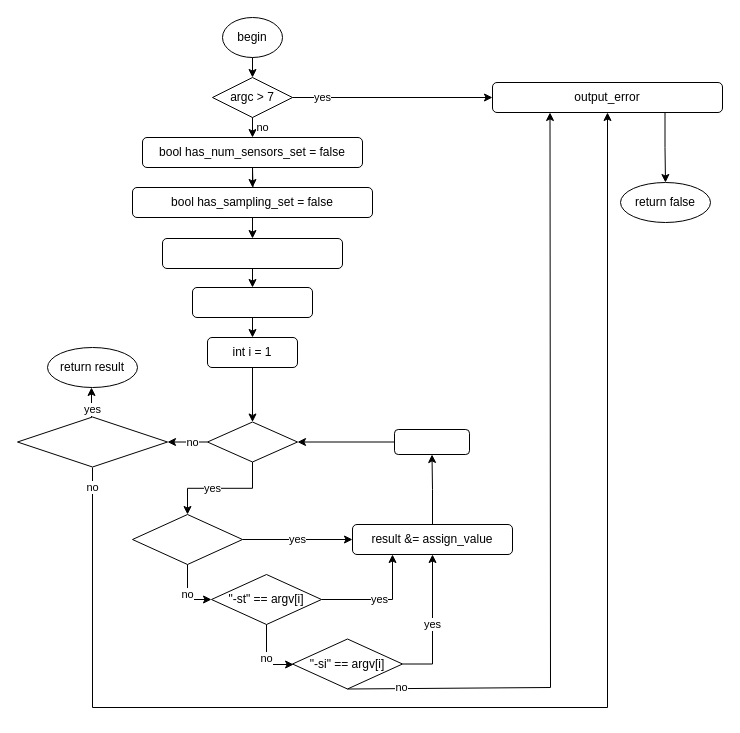
The diagram is 740 pixels wide and 733 high, and some of its shapes have lost their labels. Each missing label, with the centre of its shape:
"-n" == argv[i]: (187,539)
bool has_interval_set = false: (252,253)
bool result = true: (252,302)
i += 2: (432,441)
i < argc - 1: (252,441)
interval < sampling: (92,441)
